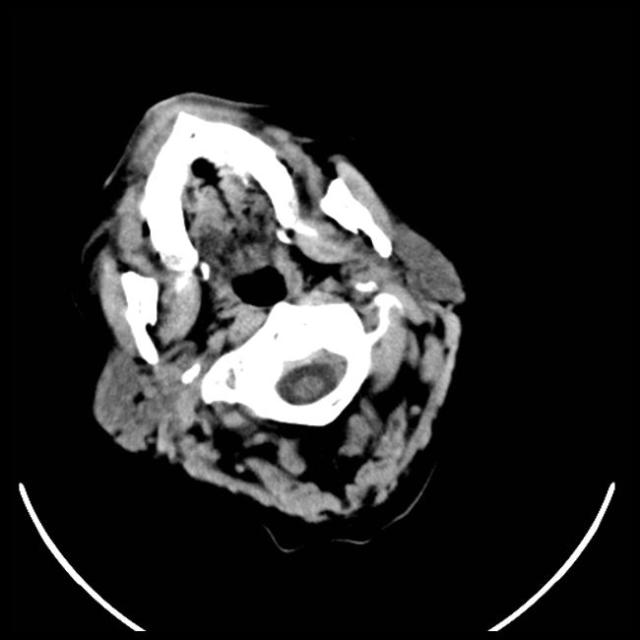lesion: (78, 88, 470, 534)
